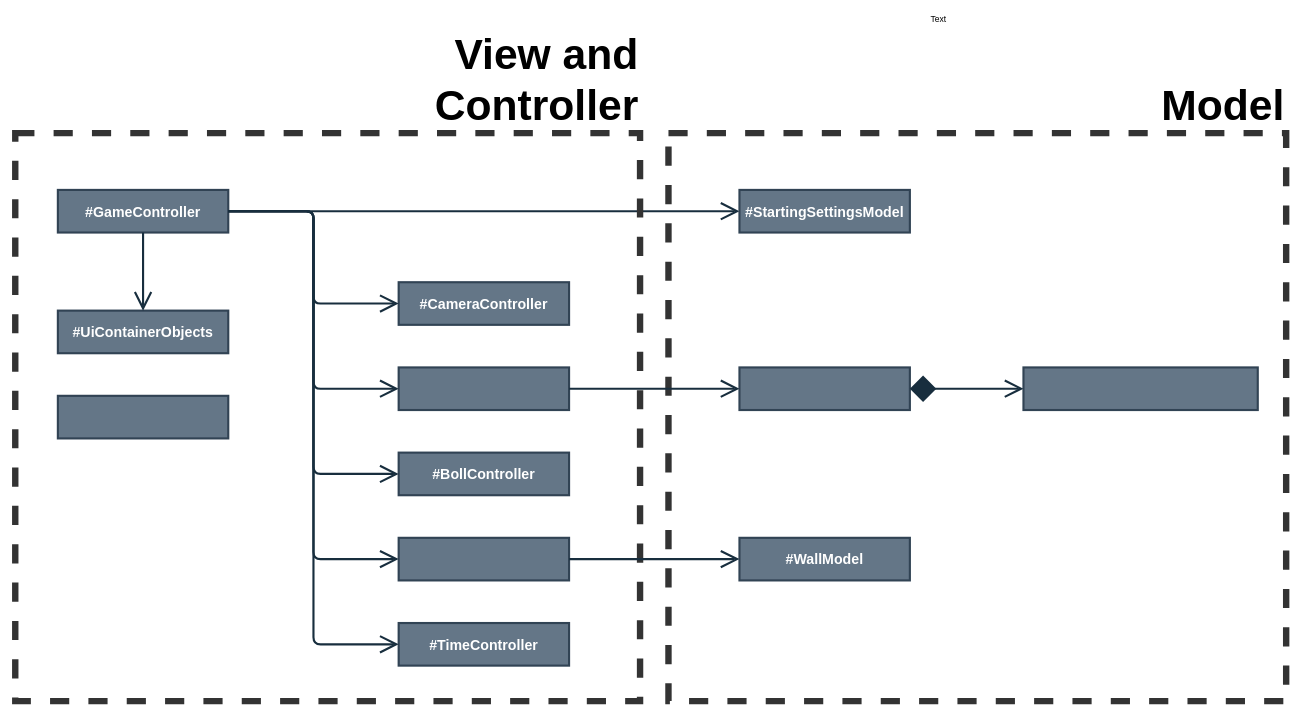
The diagram is 1301 pixels wide and 716 high, and some of its shapes have lost their labels. The centre of each missing label's shape, as x and y in pixels:
#CollisionCheker: (142,416)
#ObjectsForParallaxSpecification: (1140,388)
#ParallaxController: (483,388)
#ParallaxModel: (824,388)
#WallController: (483,558)
